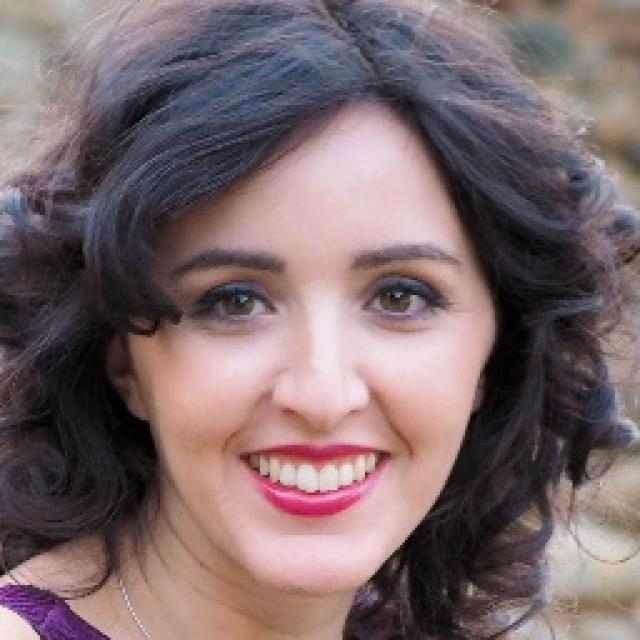earlobe: (98, 299, 152, 428)
